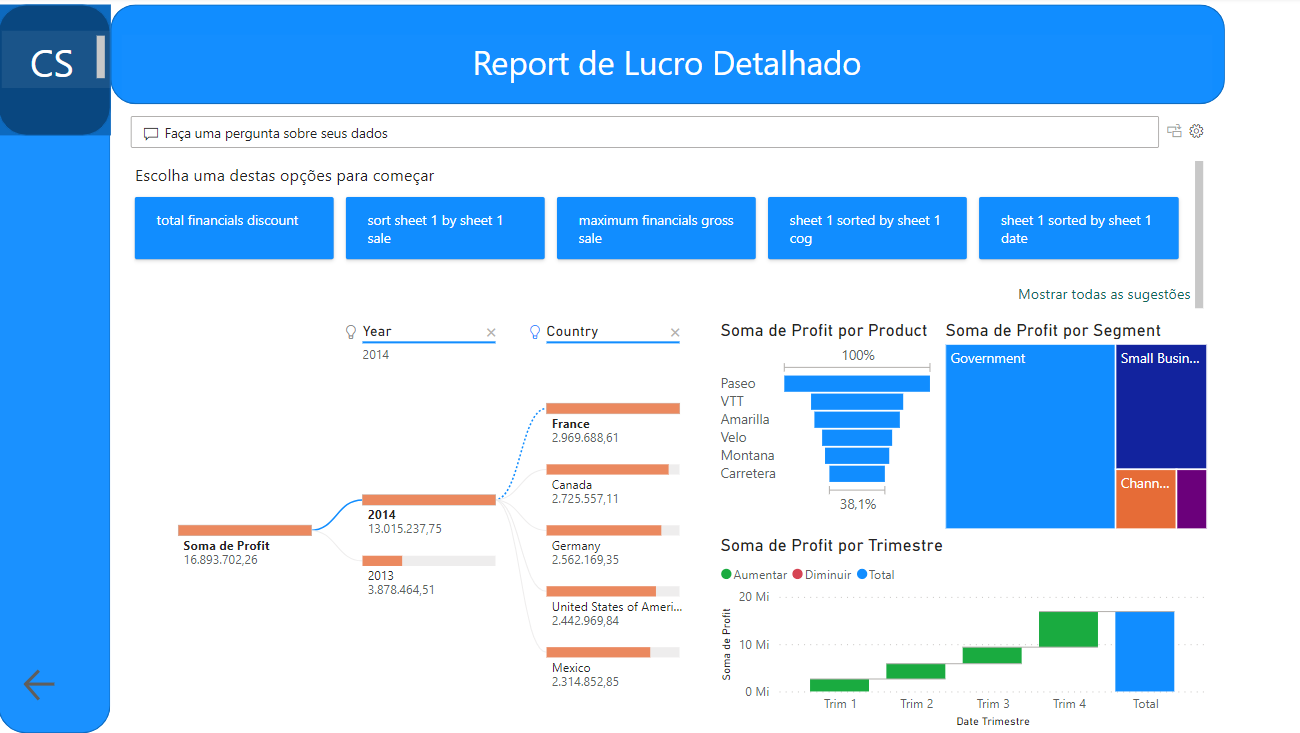

What the dashboard file says about the page in this screenshot:
{"tool":"powerbi","page":{"name":"Página 2","canvas":[1280,720],"ordinal":1},"visuals":[{"type":"shape","box":[0,7,110,712.7],"z":0},{"type":"shape","box":[0,7,110.2,128.3],"z":1000},{"type":"textbox","box":[4.2,33.5,106,55.8],"z":2000},{"type":"actionButton","box":[20.9,652.8,125.3,40.4],"z":3000},{"type":"shape","box":[110,7,1089.9,97.4],"z":4000},{"type":"textbox","box":[121.1,36.2,1066.2,71],"z":5000},{"type":"decompositionTreeVisual","fields":{"Analyze":["Sum(Sheet1.Profit)"],"ExplainBy":["Sheet1.Year","Sheet1.Country"]},"box":[146.2,302,598.5,417.6],"z":6000},{"type":"qnaVisual","box":[121.1,107.2,1066.2,208.8],"z":7000},{"type":"treemap","fields":{"Group":["Sheet1.Segment"],"Values":["Sum(Sheet1.Profit)"]},"box":[921.5,316,265.9,210.2],"z":8000},{"type":"waterfallChart","fields":{"Y":["Sum(Sheet1.Profit)"],"Category":["Sheet1.Date.Variation.Hierarquia de datas.Trimestre"]},"box":[701.5,526.1,485.8,193.5],"z":9000},{"type":"funnel","fields":{"Y":["Sum(Sheet1.Profit)"],"Category":["Sheet1.Product"]},"box":[701.5,316,219.9,194.9],"z":10000}]}

Visuals, with their boxes on the page's 1280x720 design canvas (x1, y1, x2, y2). These are canvas units, not pixel positions in the 1300x733 screenshot, which may show the page scaled, cropped or inside an application window:
shape: [0,7,110,720]
shape: [0,7,110,135]
textbox: [4,34,110,89]
actionButton: [21,653,146,693]
shape: [110,7,1200,104]
textbox: [121,36,1187,107]
decompositionTreeVisual - Sum(Sheet1.Profit) x Sheet1.Year: [146,302,745,720]
qnaVisual: [121,107,1187,316]
treemap - Sheet1.Segment x Sum(Sheet1.Profit): [922,316,1187,526]
waterfallChart - Sum(Sheet1.Profit) x Sheet1.Date.Variation.Hierarquia de datas.Trimestre: [702,526,1187,720]
funnel - Sum(Sheet1.Profit) x Sheet1.Product: [702,316,921,511]
